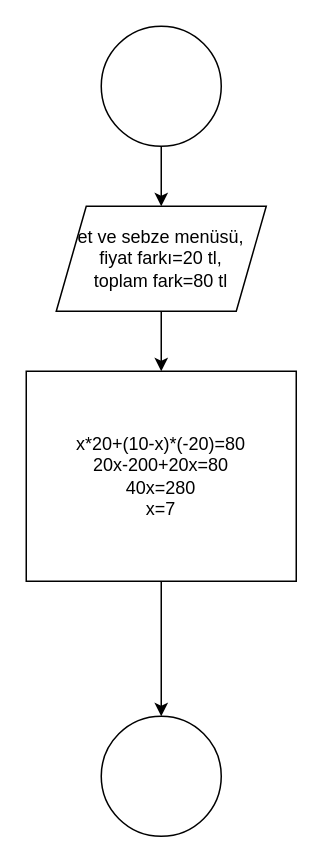
Some shapes in this 323 by 863 pixel diagram are drawn without their labels. The centre of each missing label's shape, as x and y in pixels:
BAŞLA: point (160, 85)
DUR: point (160, 775)
